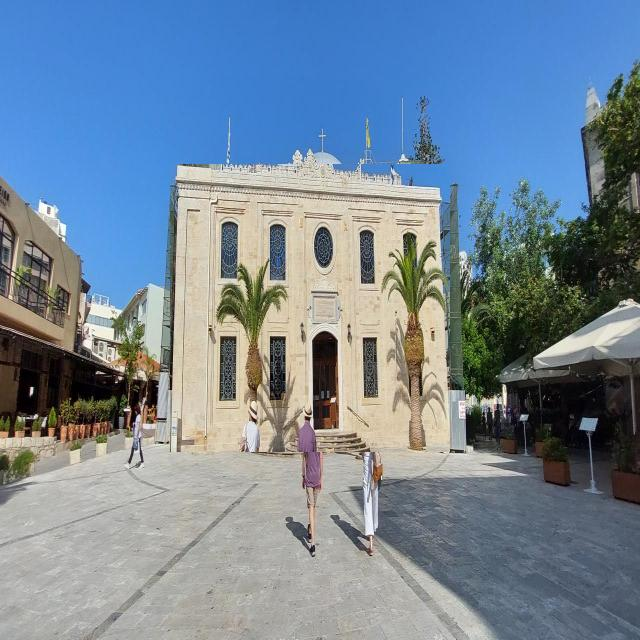Agios Titos: (171, 165, 451, 453)
